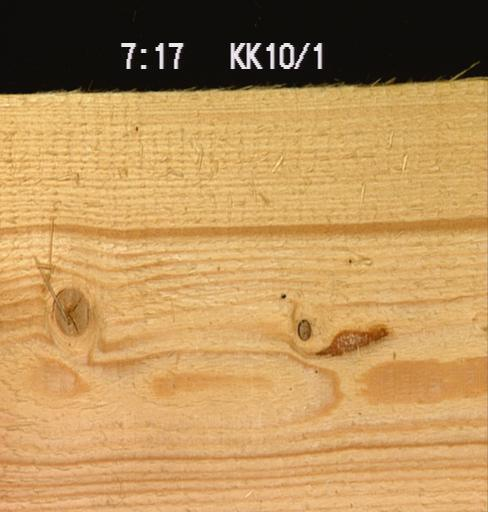dry_knot: (296, 317, 312, 341)
sound_knot: (50, 282, 90, 337)
